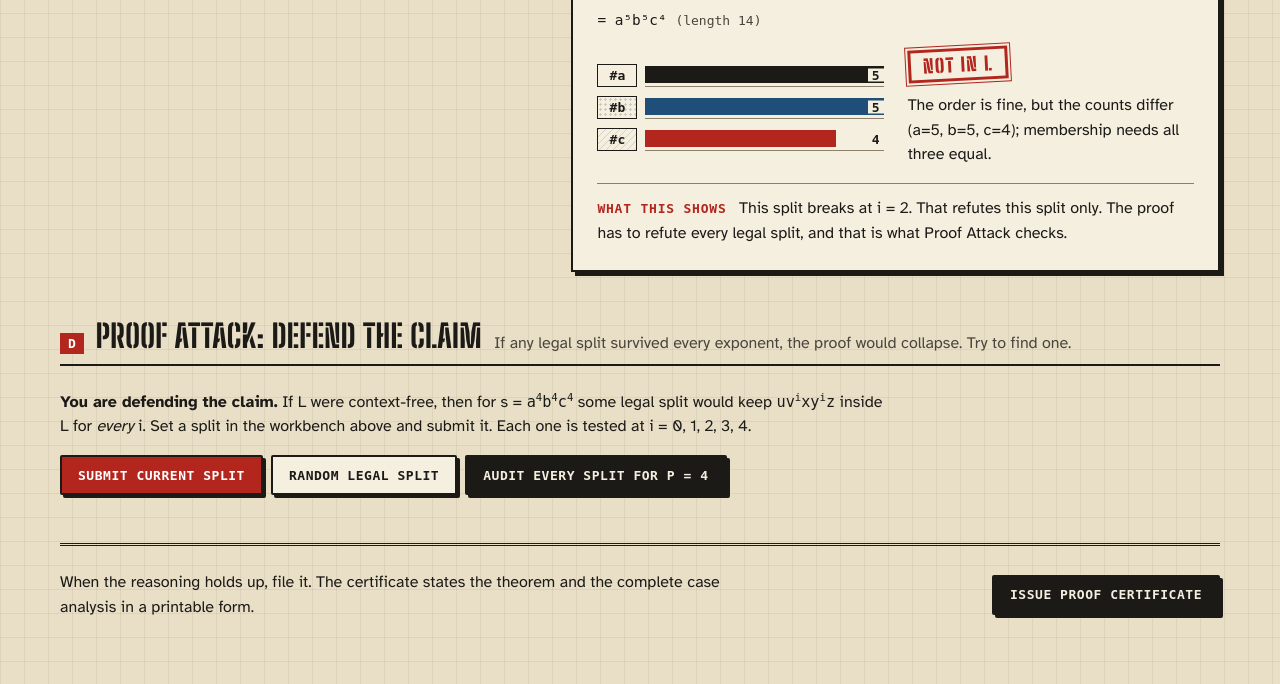
Test: Pumping Paradox page › exhaustive audit finds no survivors and labels itself an illustration
(page scrolled)
Click the button "Audit every split for p = 4": (596,475) [465, 455, 727, 495]
(page scrolled)
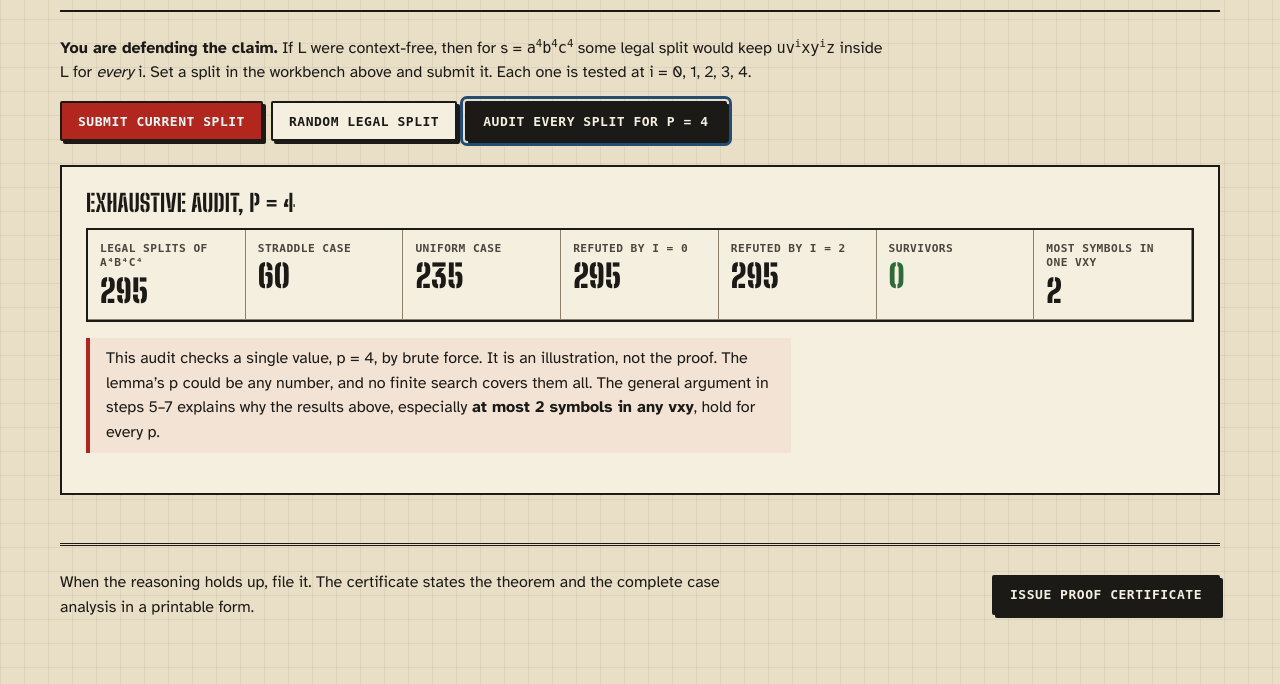
Now the text "0" is shown, box [889, 257, 905, 295]
Now the text "It is an illustration, not the proof" is shown, box [106, 348, 769, 417]
